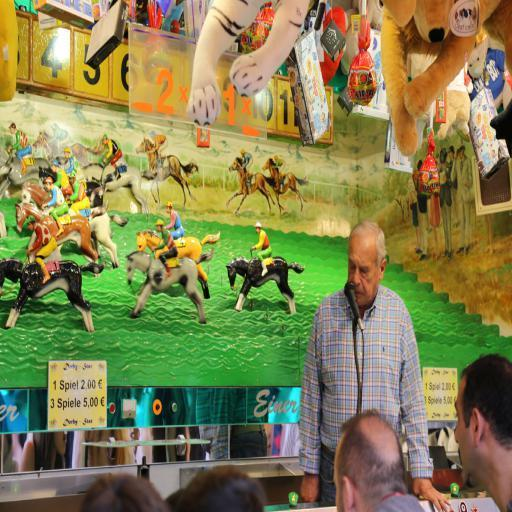horse: (0, 128, 197, 334), (126, 250, 214, 325), (134, 230, 222, 296), (228, 256, 305, 315), (226, 158, 277, 218), (260, 156, 312, 212)
